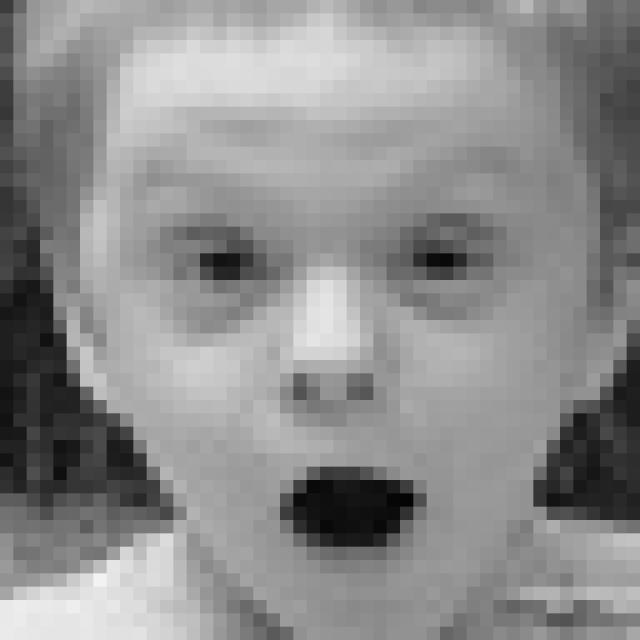surprise: (120, 154, 562, 570)
